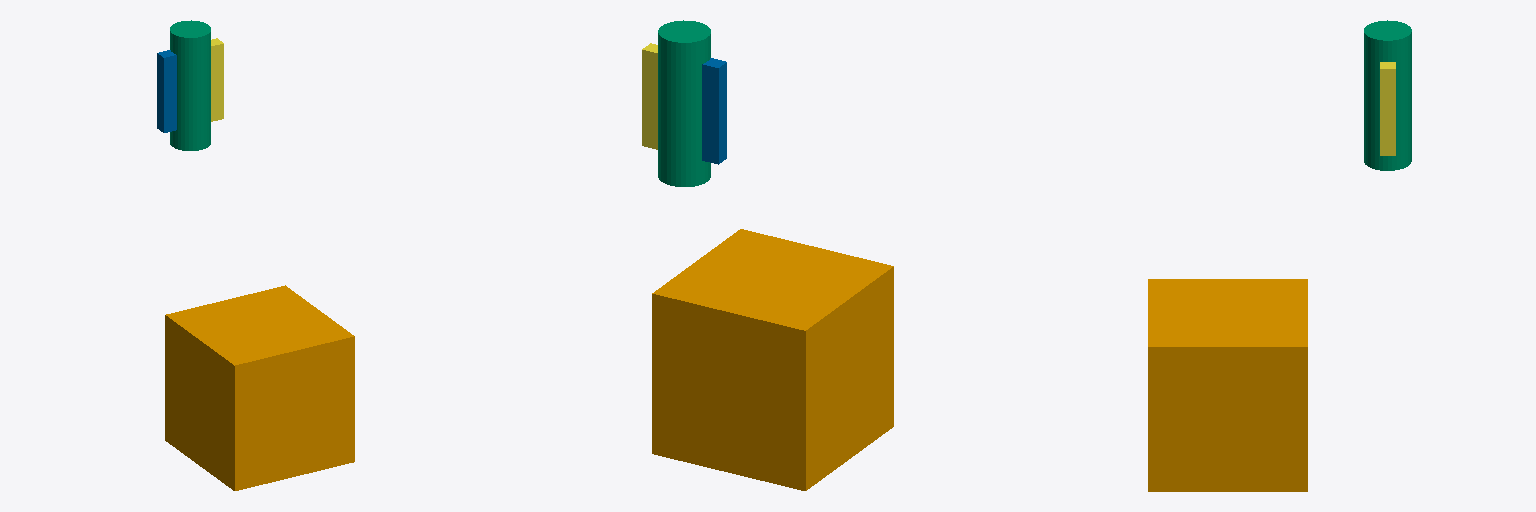
The robot description file, URDF, robot "Rench":
<?xml version="1.0"?>
<robot name="Rench">

<link name="base_link">
  <visual>
    <geometry>
      <box size="1 1 1"/>
    </geometry>
    <origin rpy="0 0 0" xyz="0 0 0"/>
  </visual>
</link>


  <link name="connector"/>

  <joint name="radius" type="continuous">
    <parent link="base_link"/>
    <child link="connector"/>
    <axis xyz="0 0 1"/>
    <origin rpy="0 0 0" xyz="0 0 0"/>
  </joint>

  <joint name="Height" type="fixed">
    <parent link="connector"/>
    <child link="wrench"/>
    <axis xyz="0 0 0"/>
    <origin rpy="0 0 1.57" xyz="0 1 2"/>
  </joint>


  <link name="wrench">
    <visual>
      <geometry>
        <cylinder length="0.9" radius="0.15"/>
      </geometry>
      <origin rpy="0 0 0" xyz="0 0 0"/>
    </visual>
  </link>


  <joint name="RtoL" type="continuous">
    <parent link="wrench"/>
    <child link="WR"/>
    <axis xyz="0 0 1"/>
    <origin rpy="0 0 0" xyz="0 0 0"/>
  </joint>


  <link name="WR">
    <visual>
      <geometry>
        <box size="0.6 0.1 0.2"/>
      </geometry>
      <origin rpy="1.57 1.57 0" xyz="0 -0.15 0"/>
    </visual>
  </link>


  <joint name="RtoR" type="continuous">
    <parent link="wrench"/>
    <child link="WL"/>
    <axis xyz="0 0 1"/>
    <origin rpy="0 0 0" xyz="0 0 0"/>
  </joint>


  <link name="WL">
    <visual>
      <geometry>
        <box size="0.6 0.1 0.2"/>
      </geometry>
      <origin rpy="1.57 1.57 0" xyz="0 0.15 0"/>
    </visual>
  </link>



</robot>

--- Render facts (derived) ---
3 views of the same robot in one strip: view 1: azimuth 30°, elevation 25°; view 2: azimuth 150°, elevation 25°; view 3: azimuth 270°, elevation 25° (orthographic).
Robot: Rench — 5 links, 4 joints (3 continuous, 1 fixed); root link base_link; default pose: all joints at 0.
Visible links, largest first — view 1: base_link, wrench, WL, WR; view 2: base_link, wrench, WL, WR; view 3: base_link, wrench, WR.
Boxes of the visible links, x1,y1,x2,y2 form: base_link: (165,285,354,490); wrench: (170,20,210,150); WL: (157,50,176,132); WR: (211,38,223,121); base_link: (652,229,893,490); wrench: (658,20,710,186); WL: (702,58,726,164); WR: (642,43,657,149); base_link: (1148,279,1307,491); wrench: (1364,20,1411,170); WR: (1380,62,1395,155).
Bounding box of the posed robot: 1 × 1.65 × 2.95 m (x, y, z).
Geometry: primitives only (box / cylinder / sphere), no mesh files.